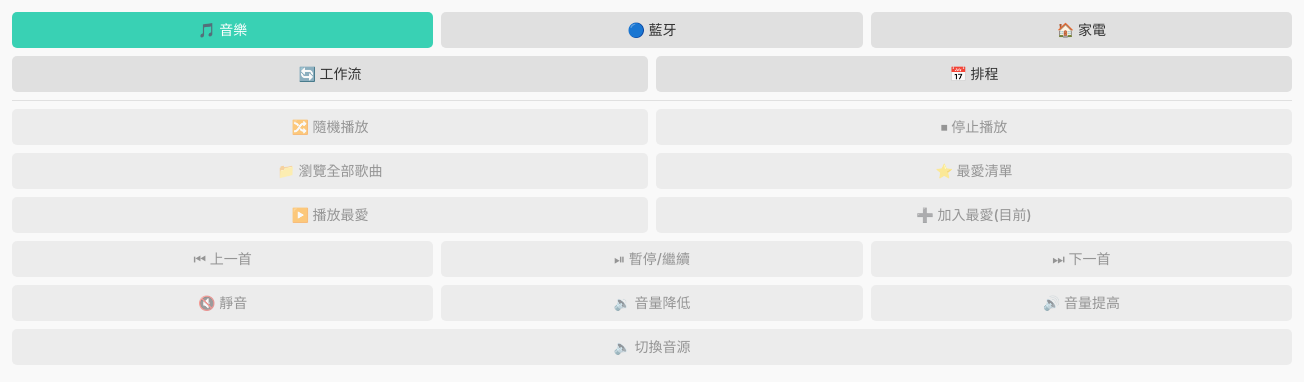
Test: LifeActionPanel — appliance IR sub-panel › disables the appliance button when disabled=true
What coordinates should you click on to do the following:
click the button "🏠 家電"
I would click on:
 (1081, 30)
Its box is 871,12 -> 1292,48.
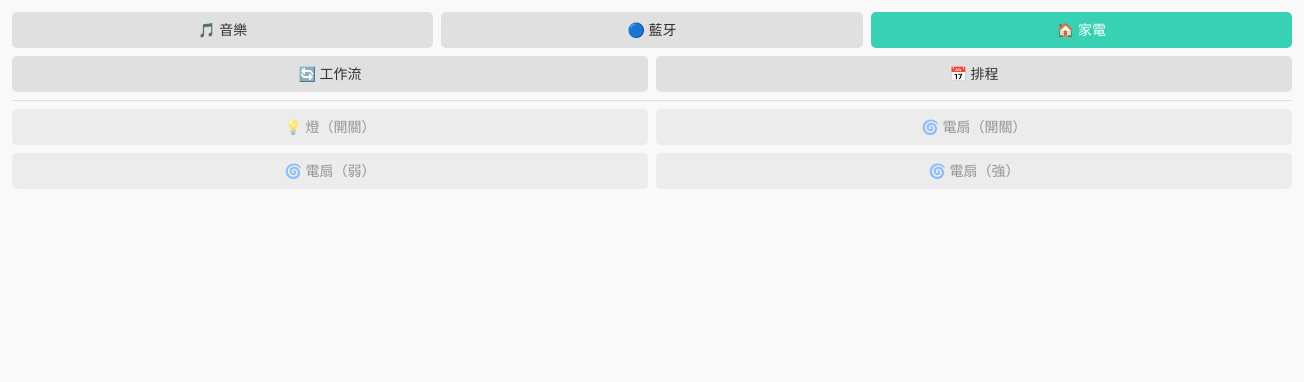
expect the button "💡 燈（開關）" is disabled: met, box 12,109 -> 648,145
